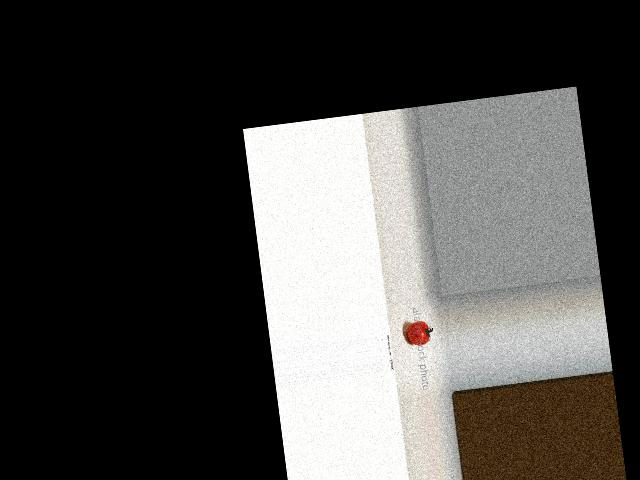tomato: (405, 320, 431, 347)
